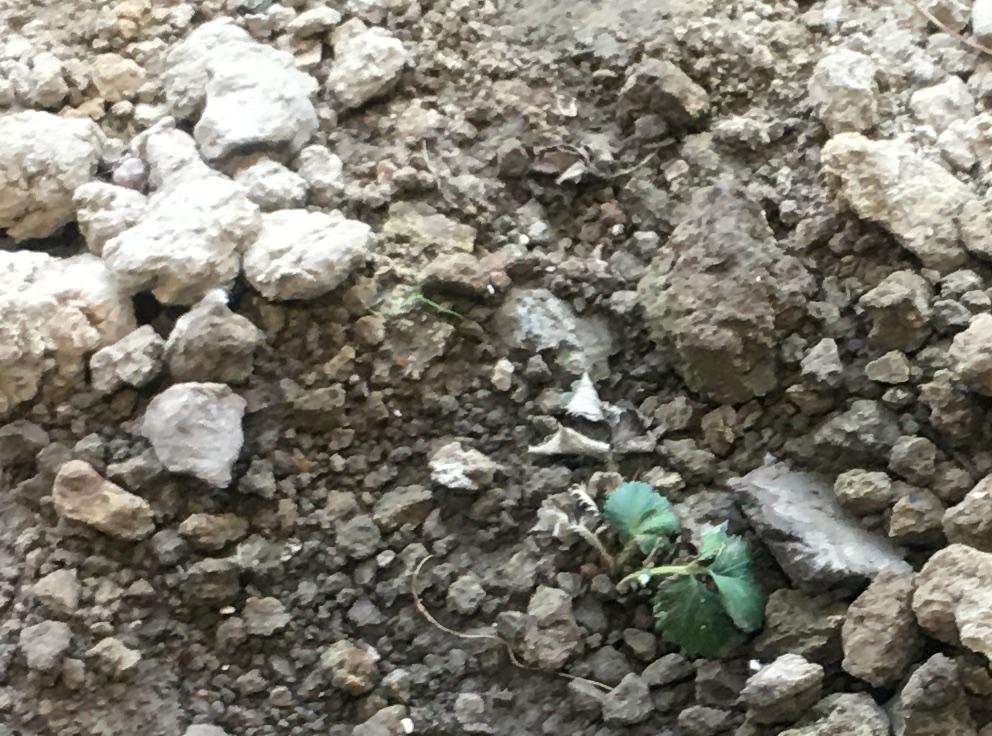block: (641, 189, 777, 398), (822, 132, 972, 268), (110, 148, 244, 297), (1, 252, 124, 414), (197, 38, 319, 155), (243, 197, 373, 296), (1, 112, 94, 239)
